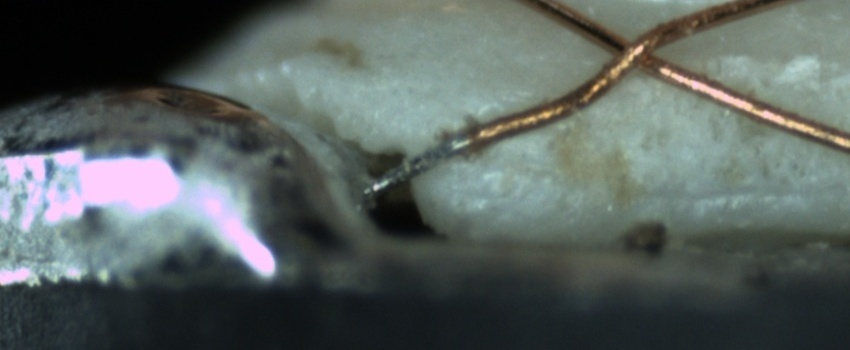CL: (591, 15, 682, 85)
TS: (362, 132, 472, 199)
